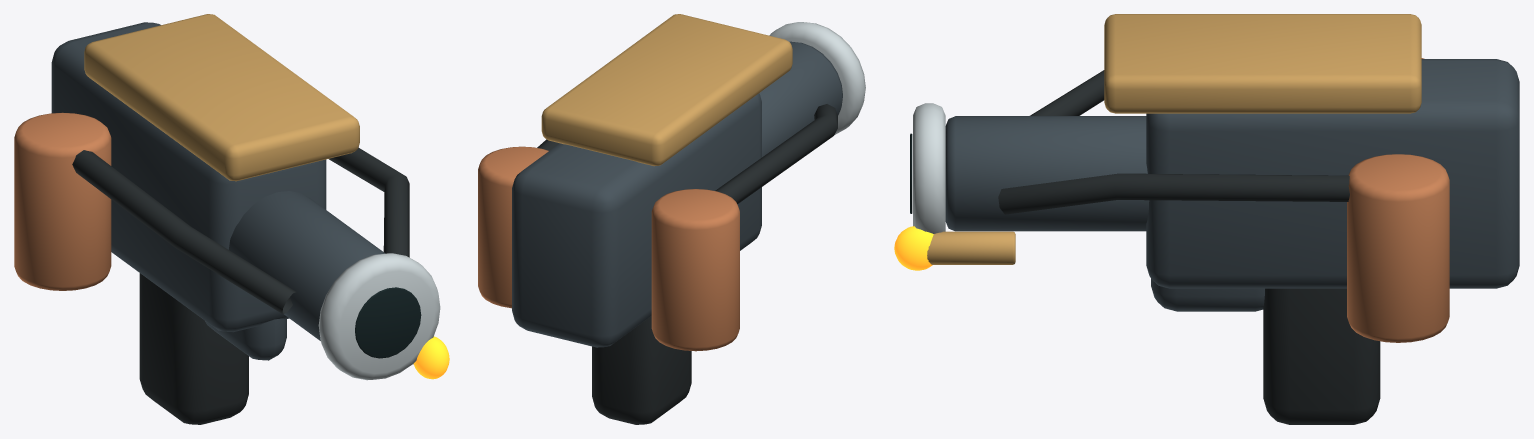
The model's file is flamethrower.t2.glb.
3 views of the same model, side by side, from view 1: azimuth 30°, elevation 25°; view 2: azimuth 150°, elevation 25°; view 3: azimuth 270°, elevation 25° (orthographic). The views are drawn at different scales.
Visible parts, largest first — view 1: weapon_right__forged_bluelead_steel__protected, weapon_right__worn_warm_brass__protected, weapon_right__charcoal_rubber__protected, weapon_right__burnished_copper__protected, weapon_right__honed_steel_edge__protected, weapon_right__eye_socket__protected, weapon_right__flame_channel__protected; view 2: weapon_right__forged_bluelead_steel__protected, weapon_right__worn_warm_brass__protected, weapon_right__burnished_copper__protected, weapon_right__charcoal_rubber__protected, weapon_right__honed_steel_edge__protected; view 3: weapon_right__forged_bluelead_steel__protected, weapon_right__worn_warm_brass__protected, weapon_right__charcoal_rubber__protected, weapon_right__burnished_copper__protected, weapon_right__honed_steel_edge__protected, weapon_right__flame_channel__protected.
Boxes of the visible parts, x1,y1,x2,y2 form: weapon_right__forged_bluelead_steel__protected: (51,22,385,360); weapon_right__worn_warm_brass__protected: (84,14,413,364); weapon_right__charcoal_rubber__protected: (72,147,409,424); weapon_right__burnished_copper__protected: (14,112,111,290); weapon_right__honed_steel_edge__protected: (318,253,440,380); weapon_right__eye_socket__protected: (355,287,421,358); weapon_right__flame_channel__protected: (413,336,449,379); weapon_right__forged_bluelead_steel__protected: (512,41,842,347); weapon_right__worn_warm_brass__protected: (541,14,792,166); weapon_right__burnished_copper__protected: (478,146,739,351); weapon_right__charcoal_rubber__protected: (537,104,837,424); weapon_right__honed_steel_edge__protected: (769,22,865,134); weapon_right__forged_bluelead_steel__protected: (945,59,1519,311); weapon_right__worn_warm_brass__protected: (927,14,1421,264); weapon_right__charcoal_rubber__protected: (998,70,1380,424); weapon_right__burnished_copper__protected: (1347,58,1449,342); weapon_right__honed_steel_edge__protected: (913,103,945,233); weapon_right__flame_channel__protected: (894,226,933,270).
Size of the model in its own units: 0.324 by 0.3937 by 0.603.
